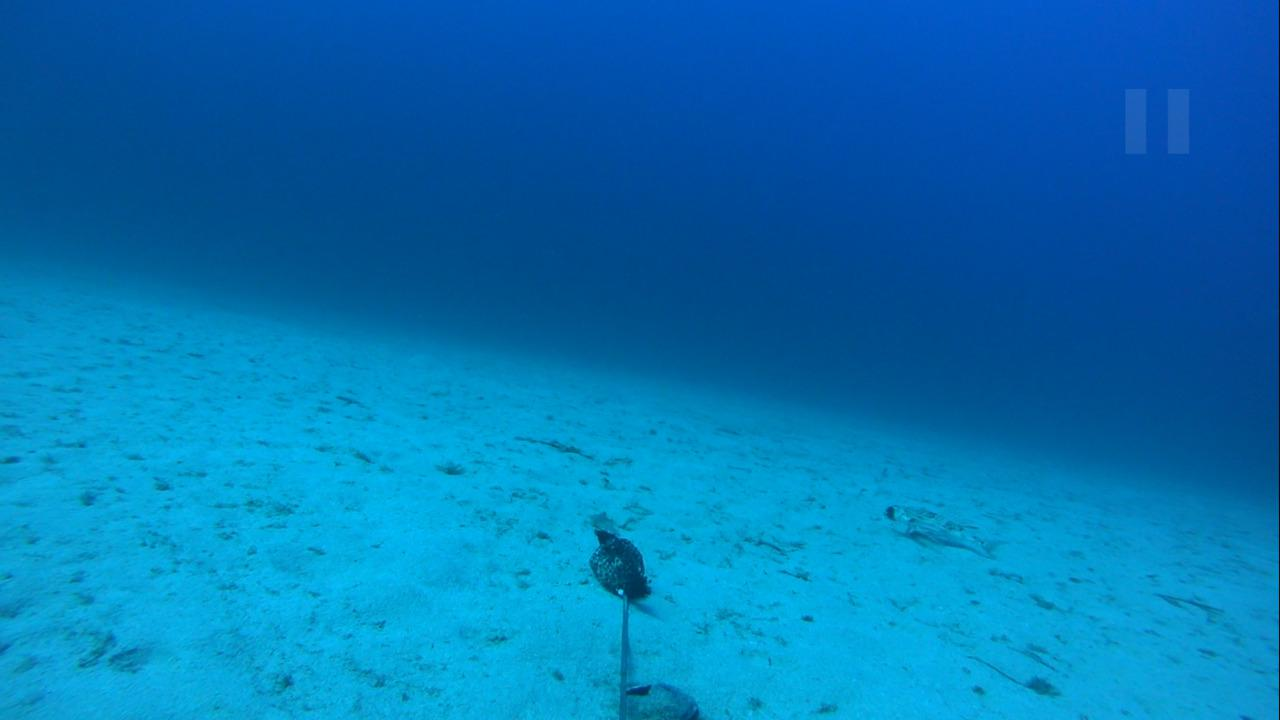dactylopterus: (870, 494, 996, 553)
